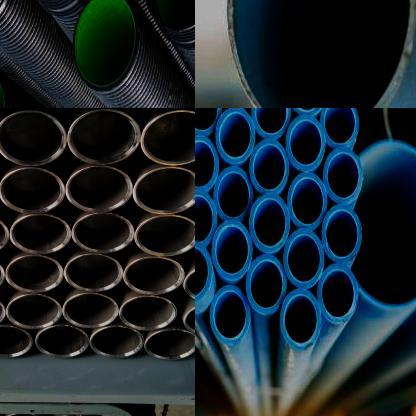pipe: (227, 0, 416, 108), (351, 138, 416, 310), (72, 0, 136, 90), (66, 108, 142, 165), (0, 108, 67, 167), (64, 164, 134, 214), (140, 108, 195, 166), (0, 166, 65, 214), (132, 166, 195, 215), (133, 213, 195, 257), (71, 212, 135, 254), (280, 288, 322, 352), (10, 213, 72, 255), (123, 256, 187, 296), (282, 228, 324, 288), (211, 220, 253, 280), (246, 254, 287, 315), (210, 284, 250, 346), (249, 194, 290, 254), (318, 263, 358, 324), (322, 146, 364, 204), (286, 173, 328, 230), (321, 204, 362, 262), (5, 254, 64, 294), (64, 253, 124, 292), (213, 166, 254, 222), (286, 115, 326, 172), (215, 109, 256, 164), (249, 140, 290, 194), (62, 292, 121, 329), (119, 295, 179, 331), (5, 294, 64, 330), (34, 325, 90, 358), (89, 326, 145, 358), (144, 329, 195, 361), (320, 108, 359, 148), (195, 136, 220, 191), (251, 109, 292, 140), (195, 190, 217, 247), (0, 324, 34, 359), (195, 240, 213, 303), (195, 109, 222, 136), (182, 301, 195, 337)
